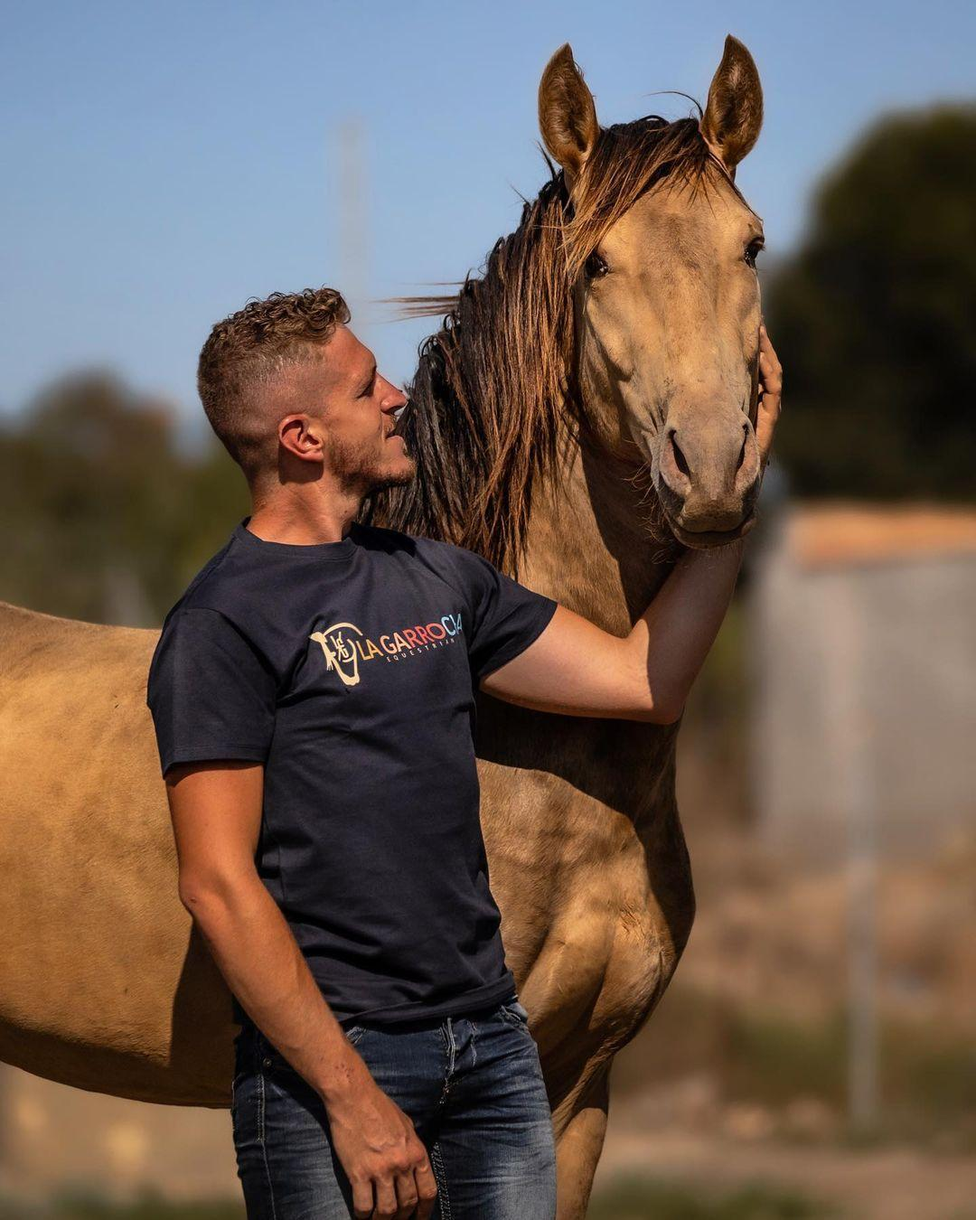horse: (0, 33, 775, 1218)
